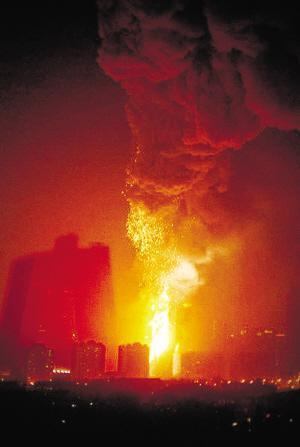fire: (119, 195, 207, 376)
